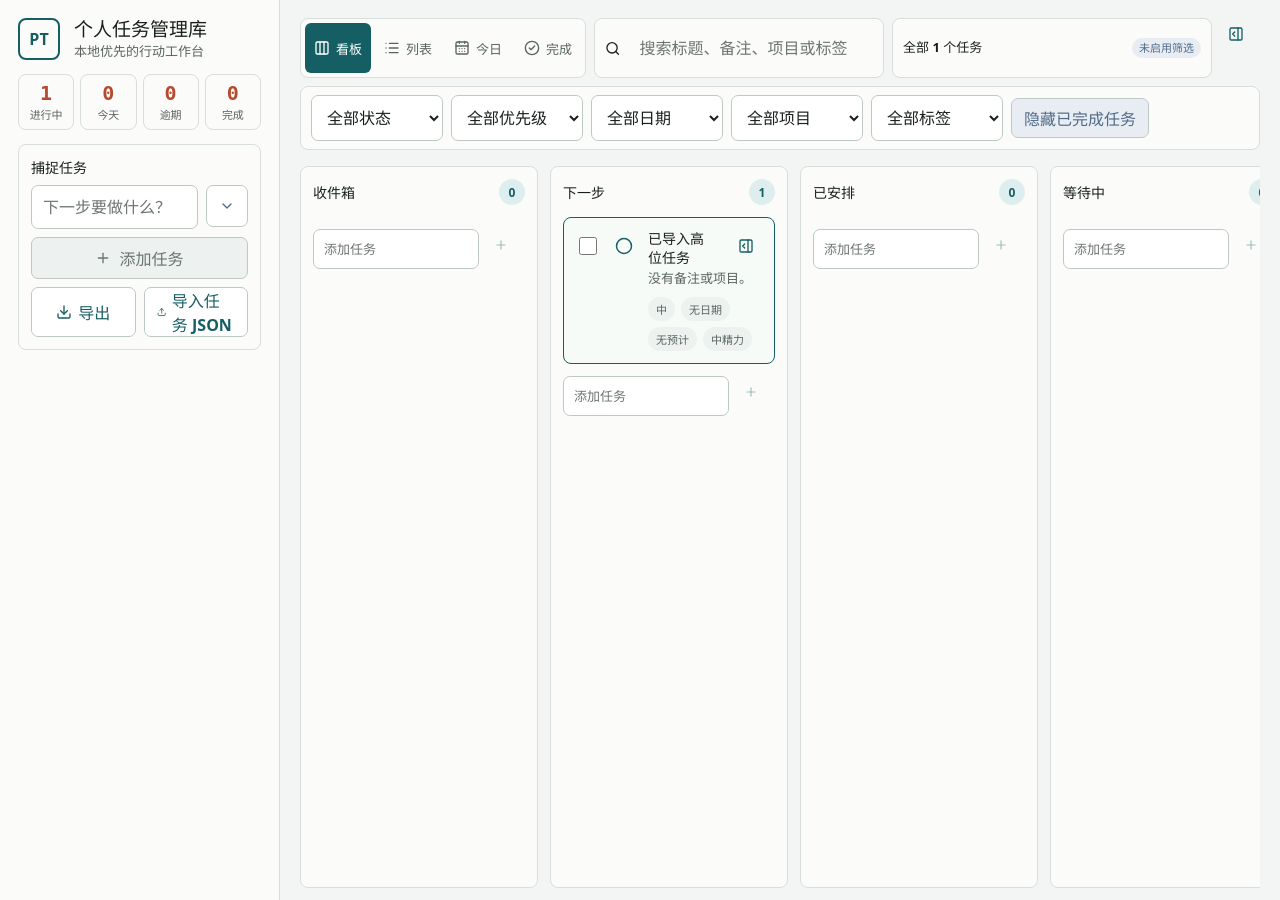
Test: TaskWorkspace › appends a column task after an imported task with a high sort order
The width and height of the screenshot is (1280, 900).
Type "列尾新任务" into the field named "下一步任务标题" at [646, 396], box x1=563 y1=376 x2=729 y2=416
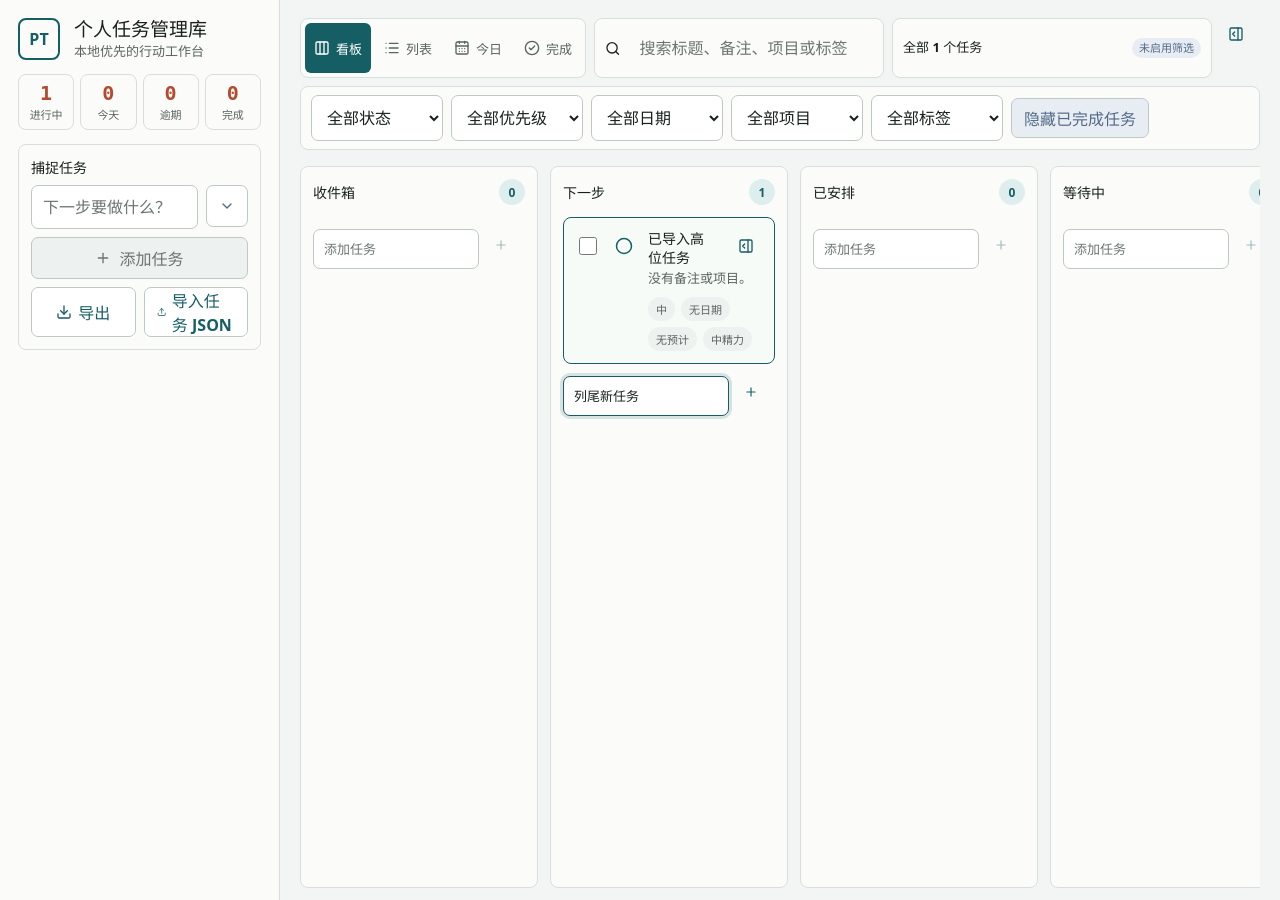
Press Enter
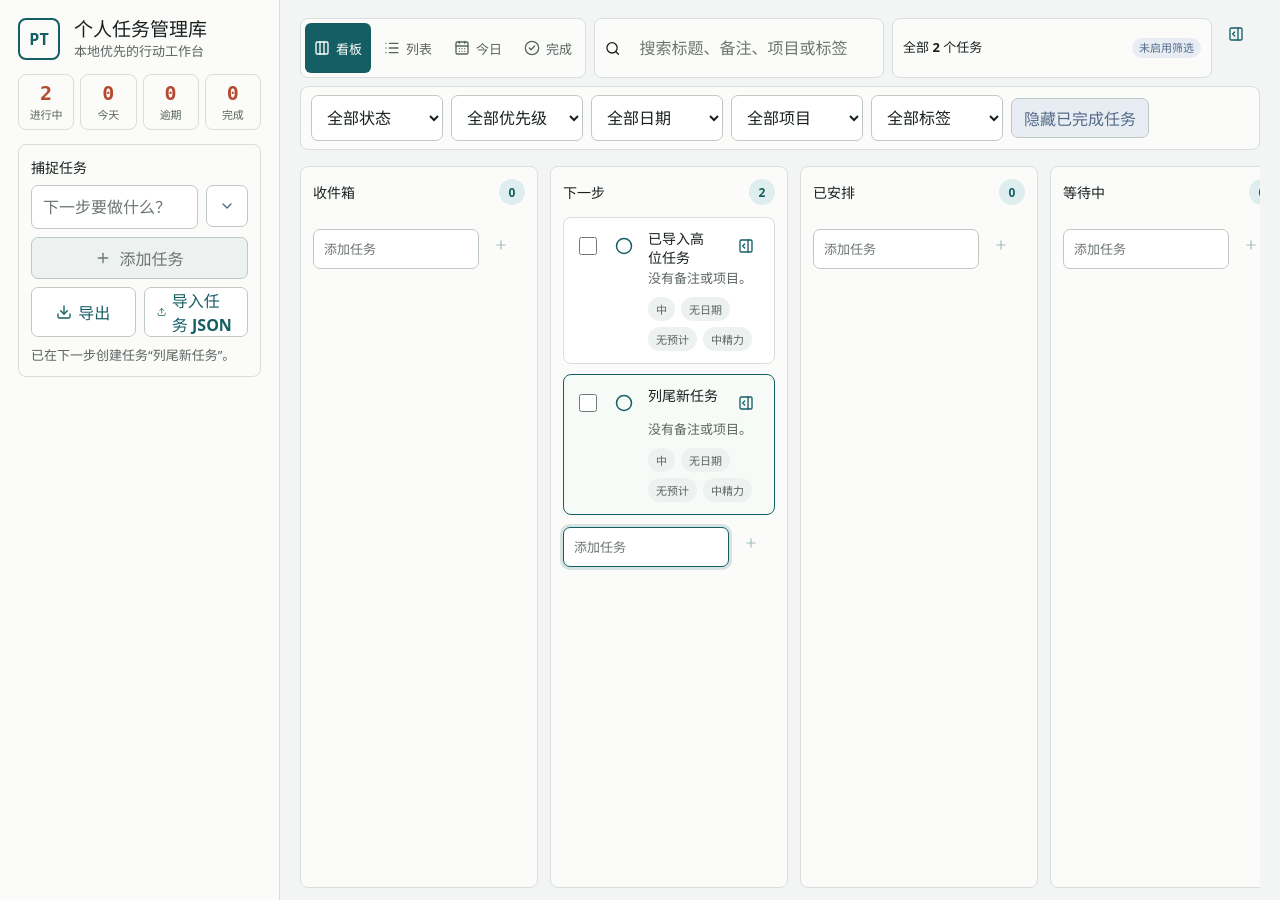
Now the heading "列尾新任务" is shown, box x1=648 y1=386 x2=718 y2=405
